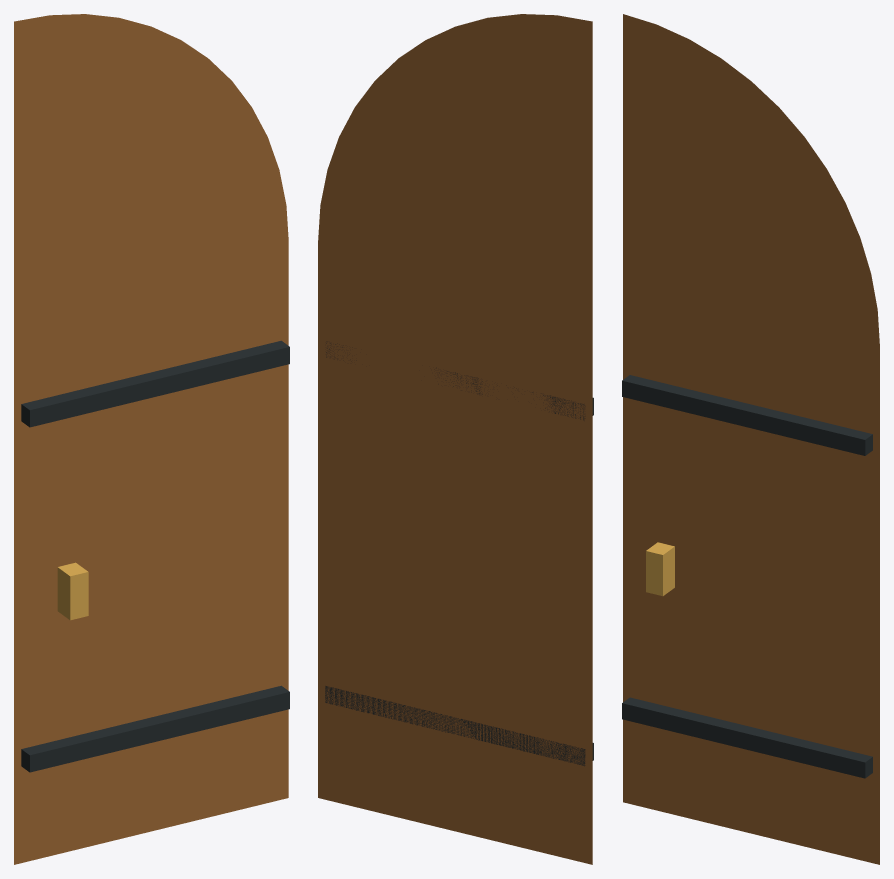
Rendered from SM_Guild_DoorRight.fbx.
3 renders of one model, left to right at view 1: azimuth 30°, elevation 25°; view 2: azimuth 150°, elevation 25°; view 3: azimuth 330°, elevation 25°, orthographic. The views are drawn at different scales.
Parts seen in each view (by area): view 1: DoorRight, DoorStrap_1.002, DoorStrap_1.003, DoorStrap_5.002, DoorStrap_5.003, DoorHandle_1.003, DoorHandle_4.003; view 2: DoorRight, DoorStrap_3.002, DoorStrap_3.003; view 3: DoorRight, DoorStrap_1.002, DoorStrap_1.003, DoorStrap_5.002, DoorStrap_5.003, DoorHandle_1.003, DoorHandle_2.003.
Part boxes in pixels (left/top/right/bottom): DoorRight: left=14, top=14, right=288, bottom=864; DoorStrap_1.002: left=30, top=692, right=289, bottom=772; DoorStrap_1.003: left=30, top=347, right=289, bottom=427; DoorStrap_5.002: left=21, top=685, right=289, bottom=755; DoorStrap_5.003: left=21, top=340, right=289, bottom=409; DoorHandle_1.003: left=70, top=572, right=88, bottom=620; DoorHandle_4.003: left=57, top=567, right=70, bottom=619; DoorRight: left=318, top=14, right=592, bottom=864; DoorStrap_3.002: left=325, top=686, right=585, bottom=766; DoorStrap_3.003: left=326, top=341, right=585, bottom=420; DoorRight: left=623, top=14, right=879, bottom=864; DoorStrap_1.002: left=622, top=703, right=865, bottom=778; DoorStrap_1.003: left=622, top=380, right=865, bottom=455; DoorStrap_5.002: left=622, top=697, right=872, bottom=762; DoorStrap_5.003: left=622, top=375, right=872, bottom=439; DoorHandle_1.003: left=646, top=551, right=662, bottom=596; DoorHandle_2.003: left=663, top=546, right=674, bottom=595.
Bounding box in the file's own units: 150 × 15 × 440.
